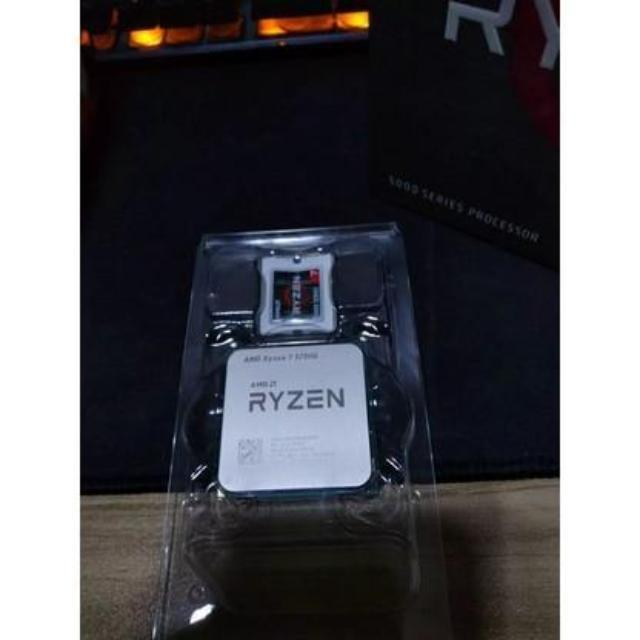CPU: (220, 346, 375, 491)
